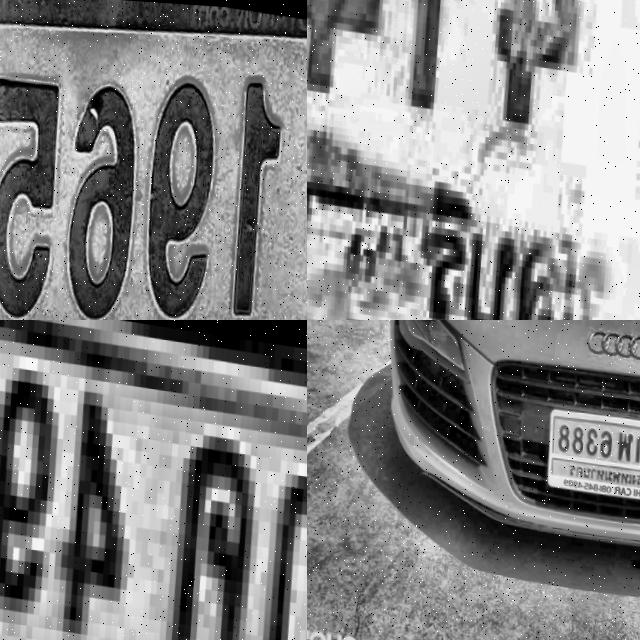license-plate: (307, 0, 640, 320), (0, 0, 307, 320), (0, 320, 307, 640), (538, 395, 640, 503)
